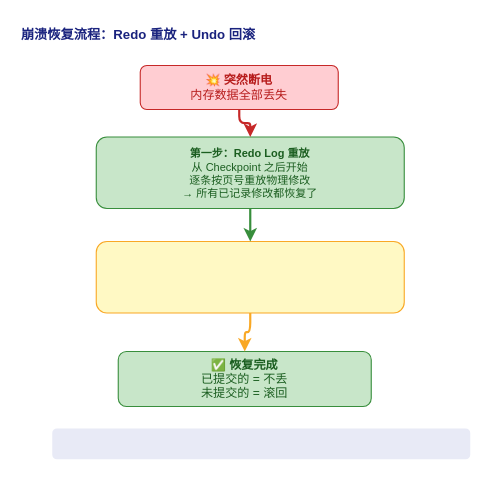
Image size: 499x477. Some labels were removed from this diagram. The shapes that lost their labels are listed below. From the top down, each one's box as (x1, y1, x2, y2) in pixels, then its label:
(95, 240, 404, 313): 第二步：Undo Log 回滚 扫描所有未提交事务 用 Undo Log 逆向操作 → 未提交的全部回滚
(52, 428, 470, 459): 🔑 Redo = 已提交不丢失 | Undo = 未提交滚回去
